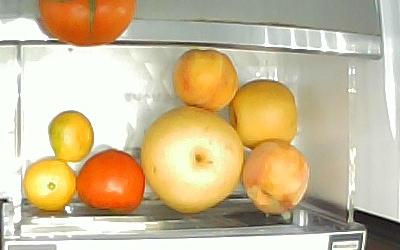peach: (239, 139, 310, 214), (171, 48, 238, 111)
pear: (139, 105, 245, 213), (228, 78, 298, 150)
tangerine: (22, 157, 76, 209), (47, 109, 94, 162)
tomato: (75, 147, 146, 212)
